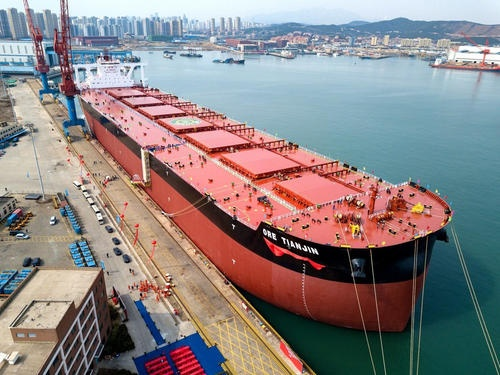Cargoship: (60, 47, 454, 333)
